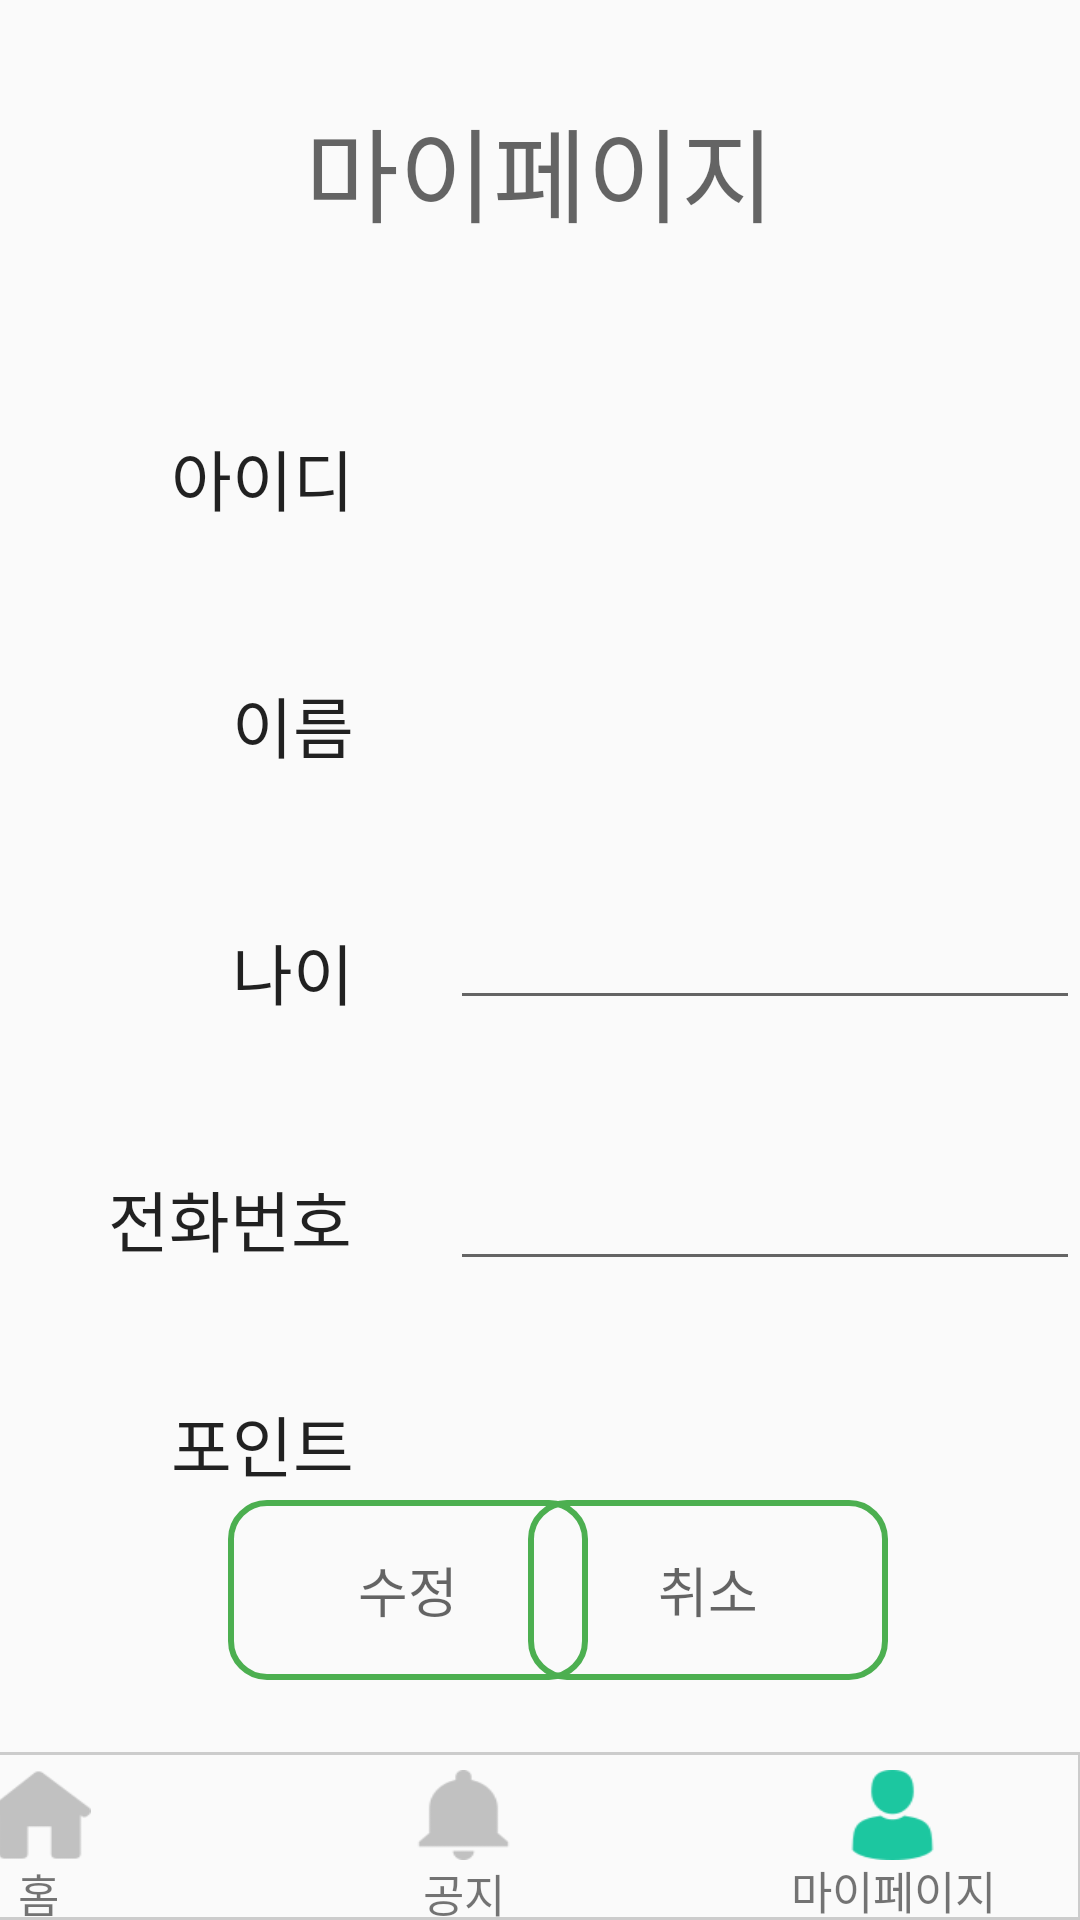

Where to tap for icons on this 1080x1920 app screen, as (x,y):
man user after: (892,1815)
